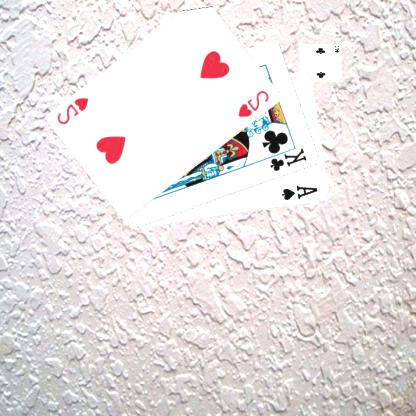2H: (237, 87, 273, 119), (57, 95, 92, 126)
AS: (282, 183, 322, 202)
KC: (263, 144, 310, 173)
